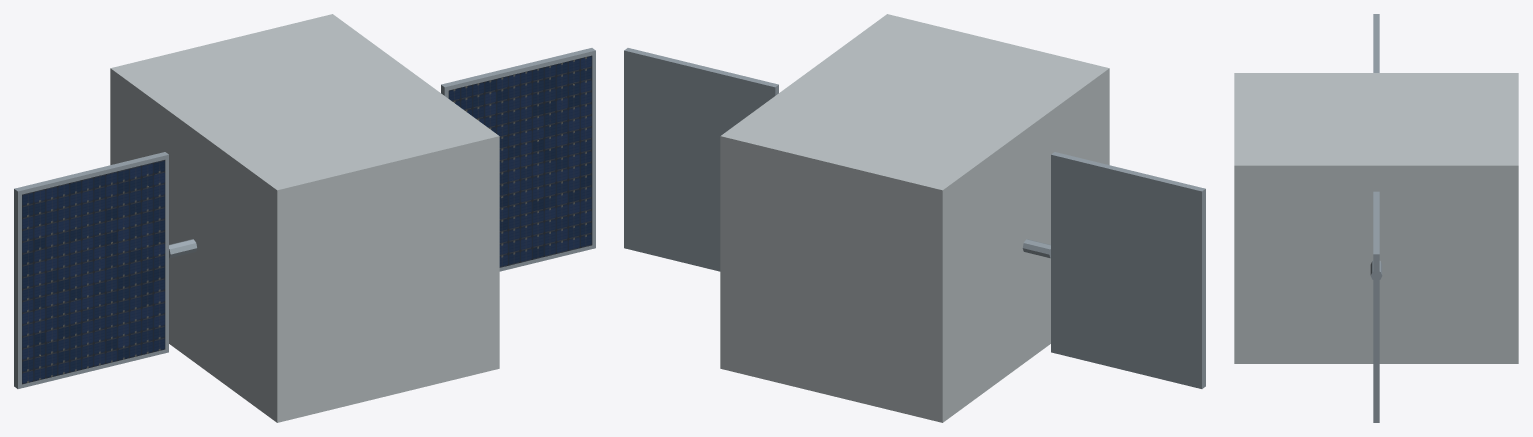
Rendered from ref-gpm-39574.glb.
The picture shows the model from 3 angles, left to right: view 1: azimuth 30°, elevation 25°; view 2: azimuth 150°, elevation 25°; view 3: azimuth 270°, elevation 25°; orthographic projection. The views are drawn at different scales.
Parts seen in each view (by area): view 1: Spacecraft body, Photovoltaic laminates (×2), Array frame (×2); view 2: Spacecraft body, Array frame (×2); view 3: Spacecraft body, Array frame (×2).
Part boxes in pixels (x1,y1,x2,y2): Spacecraft body: [110, 14, 499, 422]; Photovoltaic laminates (×2): [22, 55, 592, 384]; Array frame (×2): [14, 48, 595, 388]; Spacecraft body: [720, 14, 1109, 422]; Array frame (×2): [624, 48, 1205, 388]; Spacecraft body: [1234, 73, 1518, 363]; Array frame (×2): [1373, 14, 1379, 422].
Bounding box in the file's own units: 13 × 5 × 6.5.
Materials: 3 (1 with a texture image).
